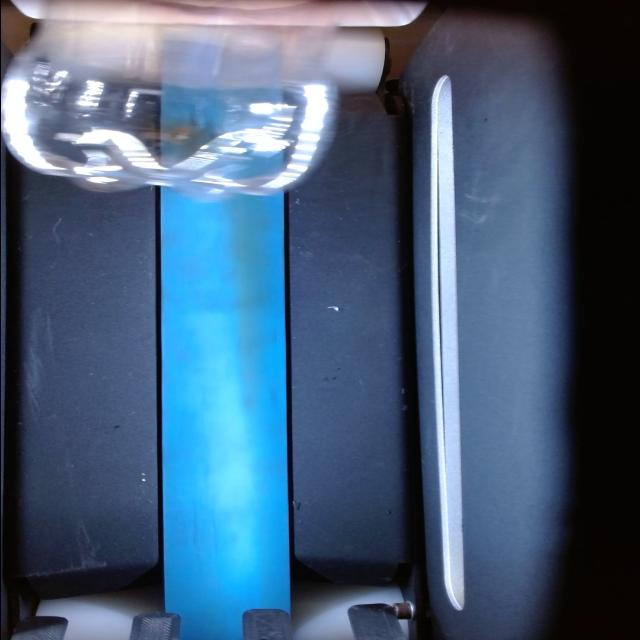bottle: (2, 20, 335, 195)
